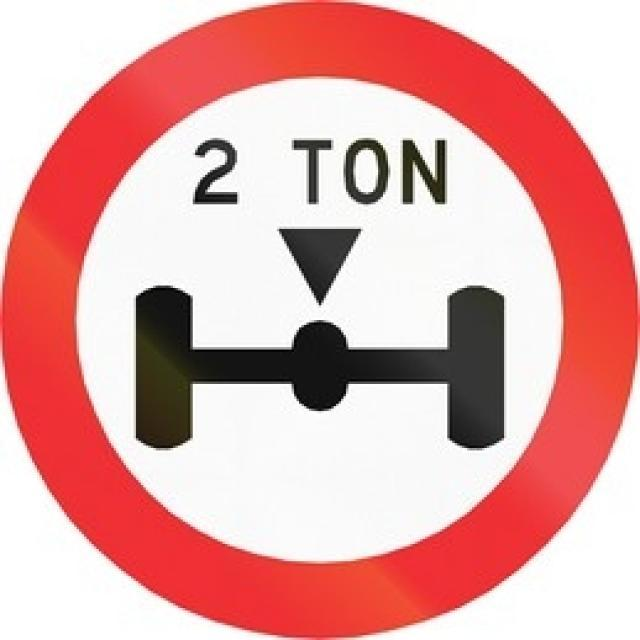axle load limit: (16, 21, 623, 619)
